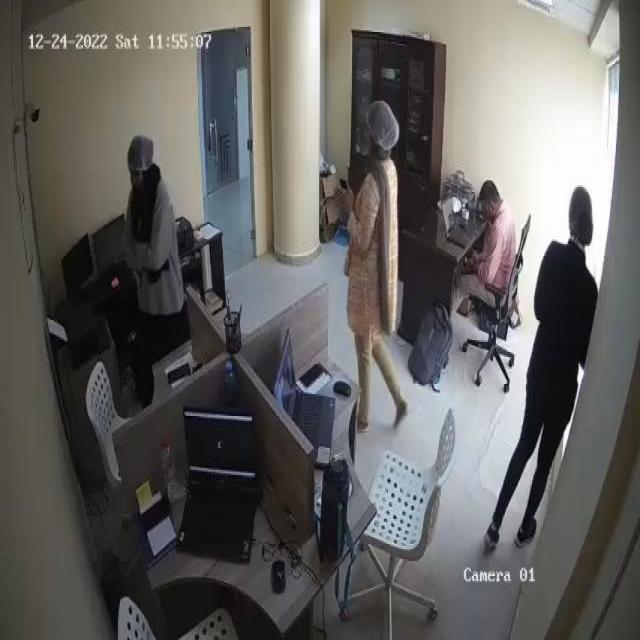bare_hand: (334, 172, 360, 221)
